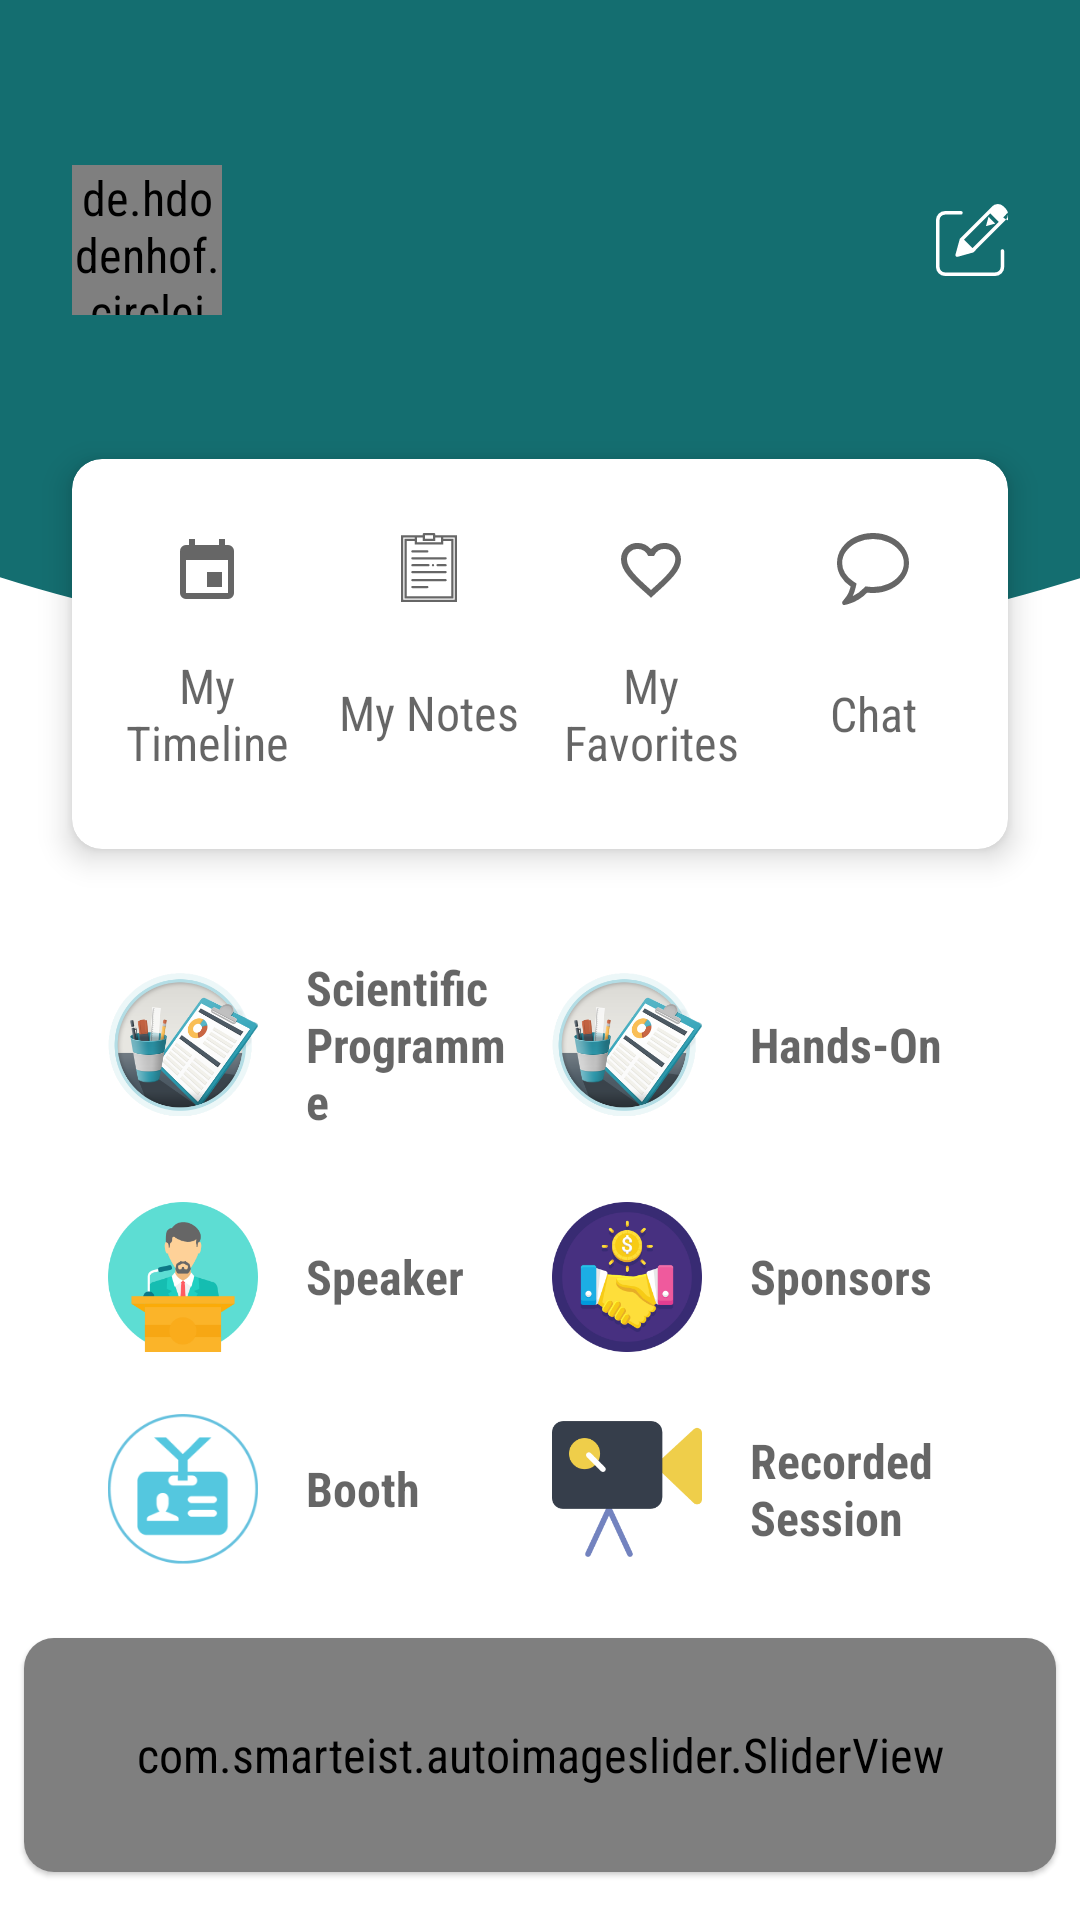

Where icons sit on this 1080*1920 app screen, as (x1, y1, x2, y2):
edit: (936, 204, 1008, 276)
